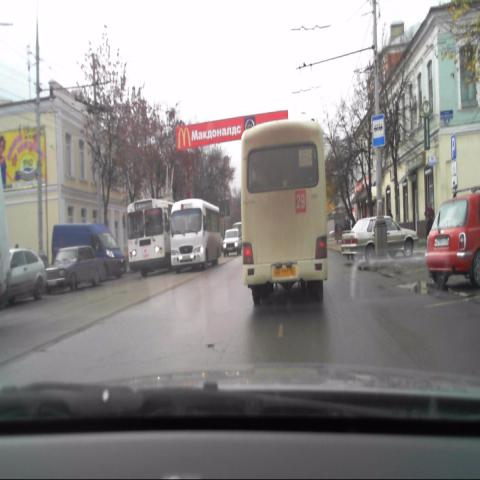5_16: (372, 114, 386, 147)
6_4: (451, 136, 458, 160)
8_17: (450, 159, 458, 175)
8_6_2: (452, 176, 460, 191)
